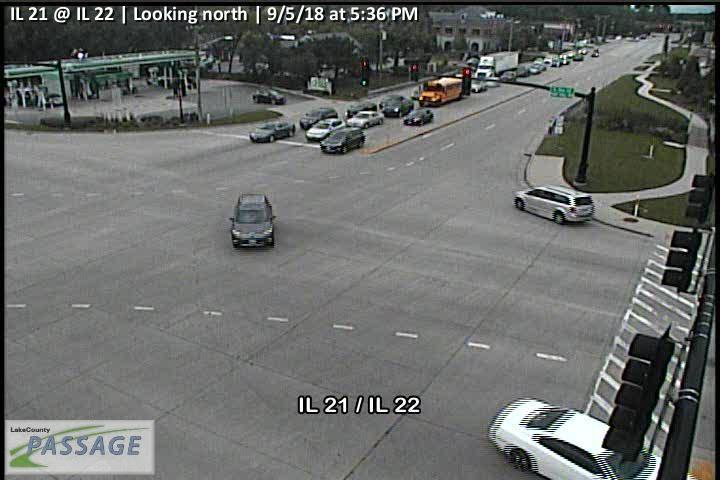Bus: (417, 76, 464, 106)
SUV: (513, 185, 595, 224), (229, 193, 277, 248), (321, 126, 366, 154), (305, 117, 345, 141), (299, 107, 339, 127), (382, 99, 415, 118)
Sedan: (489, 397, 695, 480), (248, 120, 296, 143), (346, 110, 385, 129), (403, 107, 435, 126), (252, 88, 286, 105), (471, 79, 488, 92)
Truck: (475, 51, 519, 80)
